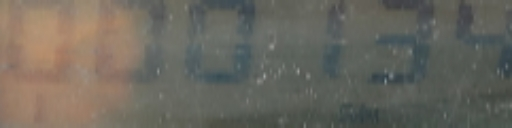0: (94, 1, 173, 92), (172, 1, 257, 85), (3, 1, 73, 83)
1: (310, 5, 345, 89)
3: (366, 1, 435, 90)
4: (452, 2, 512, 98)
d: (340, 67, 364, 89)
